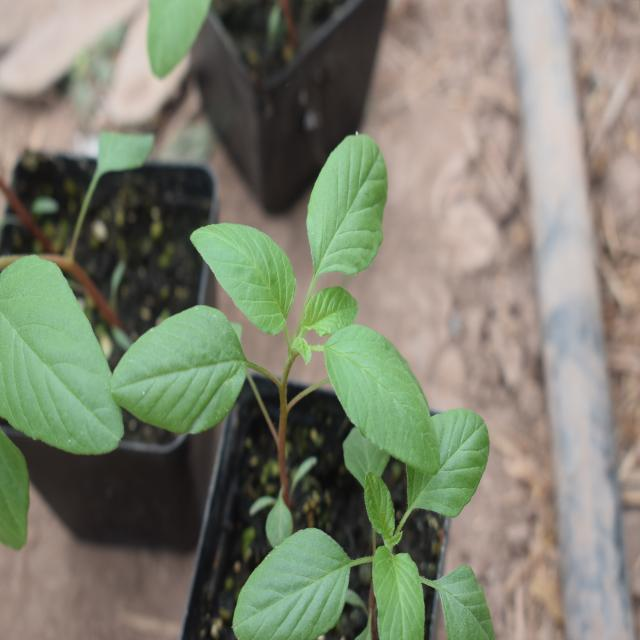pigweed: (122, 133, 438, 480), (222, 404, 503, 637)
